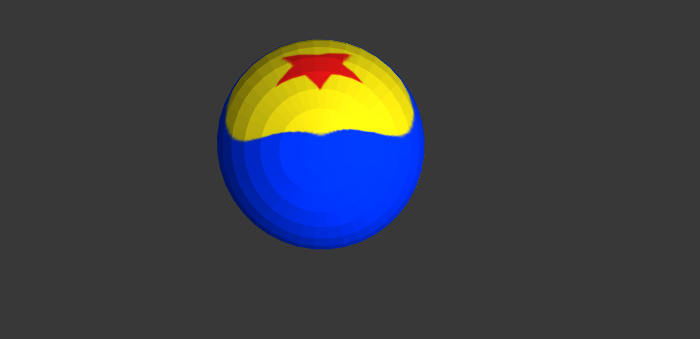toy story ball: (217, 38, 425, 248)
